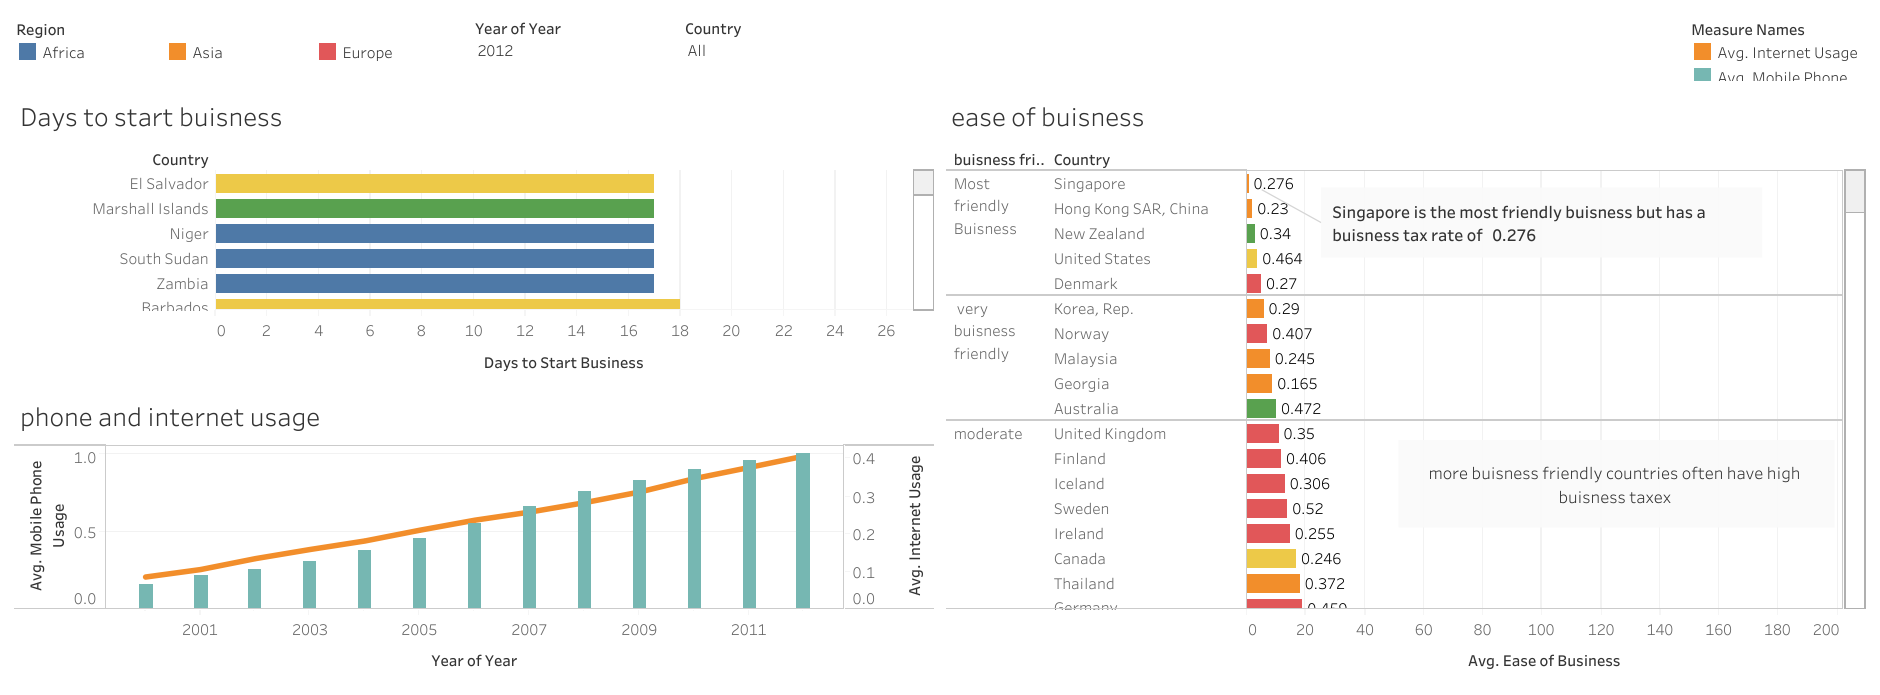

What the dashboard file says about the page in this screenshot:
{"tool":"tableau","page":{"name":"ease of buisness dashboard","canvas":[1000,1000],"units":"permille","ordinal":3},"visuals":[{"type":"legend","title":"Days to start buisness","param":"[federated.09o5wgj136x1x513rge4v0e8uug5].[none:Region:nk]","box":[5,9.3,153.8,111.5]},{"type":"filter","title":"Days to start buisness","param":"[federated.09o5wgj136x1x513rge4v0e8uug5].[yr:Year:ok]","box":[158.8,9.3,104.2,111.5]},{"type":"filter","title":"Days to start buisness","param":"[federated.09o5wgj136x1x513rge4v0e8uug5].[none:Country:nk]","box":[263,9.3,104.2,111.5]},{"type":"legend","title":"phone and internet usage","param":"[federated.09o5wgj136x1x513rge4v0e8uug5].[:Measure Names]","box":[895.8,9.3,99.3,111.5]},{"type":"worksheet","title":"Days to start buisness","mark":"Automatic","rows":["Country"],"cols":["Days to Start Business"],"box":[5,120.8,495,435]},{"type":"worksheet","title":"ease of buisness","mark":"Automatic","rows":["Calculation_505529123121782790","Country"],"cols":["Ease of Business"],"box":[500,120.8,495,869.9]},{"type":"worksheet","title":"phone and internet usage","mark":"Automatic","rows":["Mobile Phone Usage","Internet Usage"],"cols":["Year"],"box":[5,555.8,495,434.9]}]}

Visuals, with their boxes on the dashboard's canvas, which has no fixed pixel size, in thousandths of its width and height (x1, y1, x2, y2). These are canvas units, not pixel positions in the 1880x695 screenshot, which may show the page scaled, cropped or inside an application window:
"Days to start buisness" legend: region(5, 9, 159, 121)
"Days to start buisness" filter: region(159, 9, 263, 121)
"Days to start buisness" filter: region(263, 9, 367, 121)
"phone and internet usage" legend: region(896, 9, 995, 121)
"Days to start buisness" worksheet: region(5, 121, 500, 556)
"ease of buisness" worksheet: region(500, 121, 995, 991)
"phone and internet usage" worksheet: region(5, 556, 500, 991)
